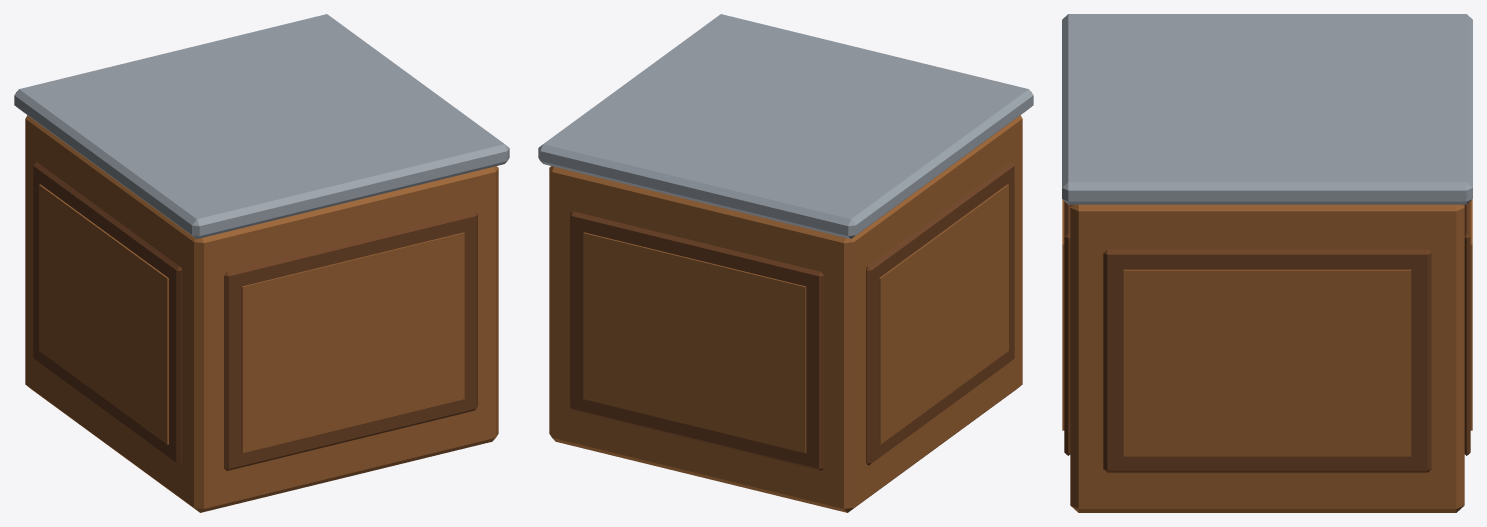
Rendered from counter.glb.
3 views of the same model, side by side, from view 1: azimuth 30°, elevation 25°; view 2: azimuth 150°, elevation 25°; view 3: azimuth 270°, elevation 25° (orthographic). The views are drawn at different scales.
Visible parts, largest first — view 1: counter; view 2: counter; view 3: counter.
Boxes of the visible parts, left/top/right/bottom form: counter: left=14, top=14, right=509, bottom=512; counter: left=538, top=14, right=1033, bottom=512; counter: left=1062, top=14, right=1472, bottom=512.
Bounding box in the file's own units: 1 × 0.9 × 1.
